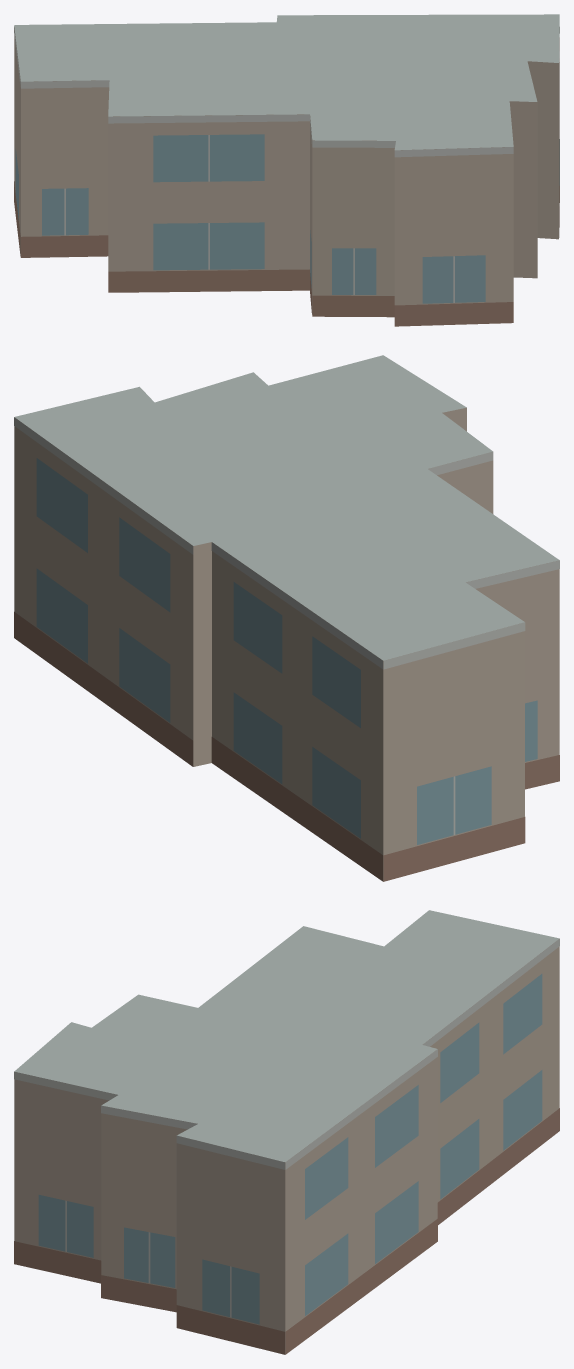
The model's file is survey-upis-32935667.glb.
3 renders of one model, top to bottom at view 1: azimuth 30°, elevation 25°; view 2: azimuth 150°, elevation 25°; view 3: azimuth 270°, elevation 25°, orthographic. The views are drawn at different scales.
Parts seen in each view (by area): view 1: survey-upis-32935667.tmp; view 2: survey-upis-32935667.tmp; view 3: survey-upis-32935667.tmp.
Part boxes in pixels (x1,y1,x2,y2): survey-upis-32935667.tmp: (14, 14, 559, 326); survey-upis-32935667.tmp: (14, 355, 559, 881); survey-upis-32935667.tmp: (14, 910, 559, 1354).
Size of the model in its own units: 17.15 by 6.1 by 15.68.
